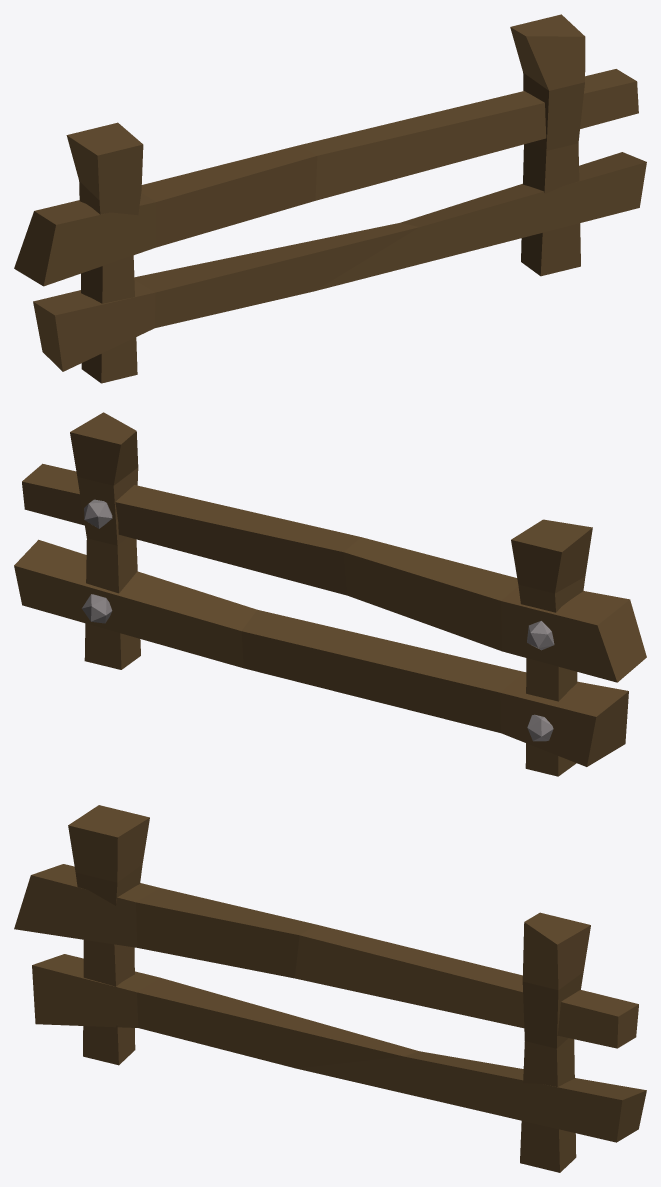
The model's file is Fence.fbx.
3 views of the same model, one above another, from view 1: azimuth 30°, elevation 25°; view 2: azimuth 150°, elevation 25°; view 3: azimuth 330°, elevation 25° (orthographic).
Visible parts, largest first — view 1: Horizontal Top Plank, Horizontal Bottom Plank, Vertical Left Plank, Vertical Right Plank; view 2: Horizontal Bottom Plank, Horizontal Top Plank, Vertical Left Plank, Vertical Right Plank, Bottom Left Nail.001, Top Left Nail, Top Right Nail, Bottom Left Nail; view 3: Horizontal Top Plank, Horizontal Bottom Plank, Vertical Left Plank, Vertical Right Plank.
Boxes of the visible parts, x1=… form: Horizontal Top Plank: x1=14, y1=69, x2=638, y2=286; Horizontal Bottom Plank: x1=33, y1=152, x2=646, y2=371; Vertical Left Plank: x1=510, y1=14, x2=585, y2=276; Vertical Right Plank: x1=66, y1=122, x2=143, y2=383; Horizontal Bottom Plank: x1=14, y1=539, x2=628, y2=766; Horizontal Top Plank: x1=22, y1=463, x2=646, y2=682; Vertical Left Plank: x1=70, y1=412, x2=140, y2=669; Vertical Right Plank: x1=511, y1=519, x2=592, y2=776; Bottom Left Nail.001: x1=82, y1=594, x2=112, y2=623; Top Left Nail: x1=84, y1=499, x2=112, y2=528; Top Right Nail: x1=527, y1=621, x2=554, y2=650; Bottom Left Nail: x1=527, y1=714, x2=553, y2=741; Horizontal Top Plank: x1=14, y1=864, x2=638, y2=1048; Horizontal Bottom Plank: x1=32, y1=954, x2=646, y2=1142; Vertical Left Plank: x1=520, y1=912, x2=590, y2=1172; Vertical Right Plank: x1=68, y1=805, x2=149, y2=1065.
Bounding box in the file's own units: 427 × 157 × 43.52.
